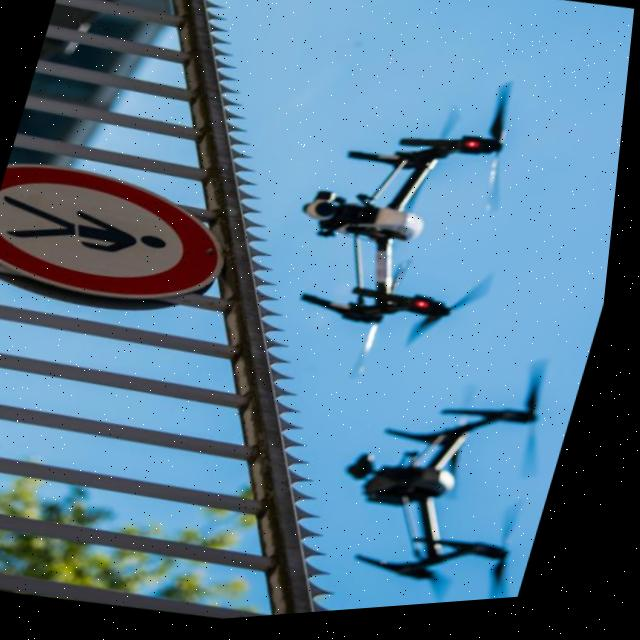drones: (243, 17, 587, 408), (284, 328, 597, 620)
